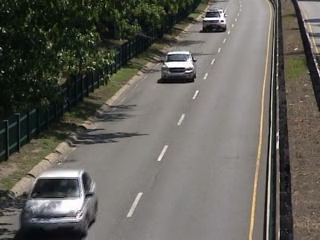car: (17, 168, 104, 234), (159, 48, 201, 82), (200, 7, 231, 33)
